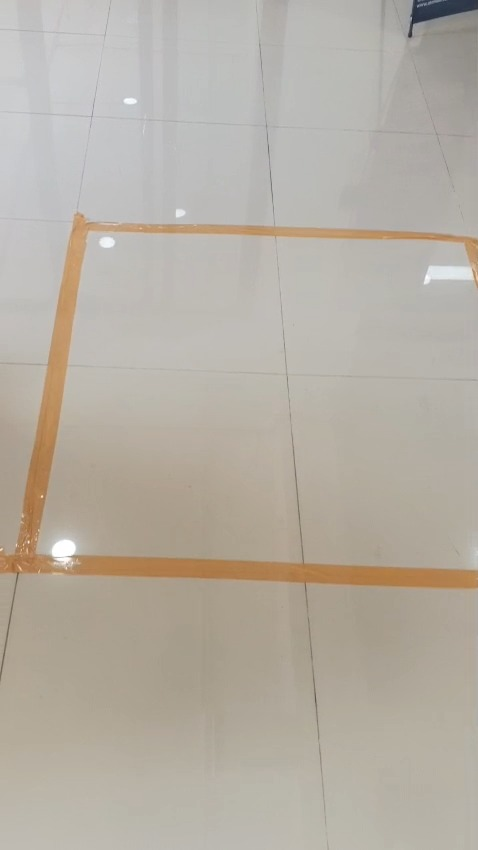floor marking: (17, 221, 477, 586)
